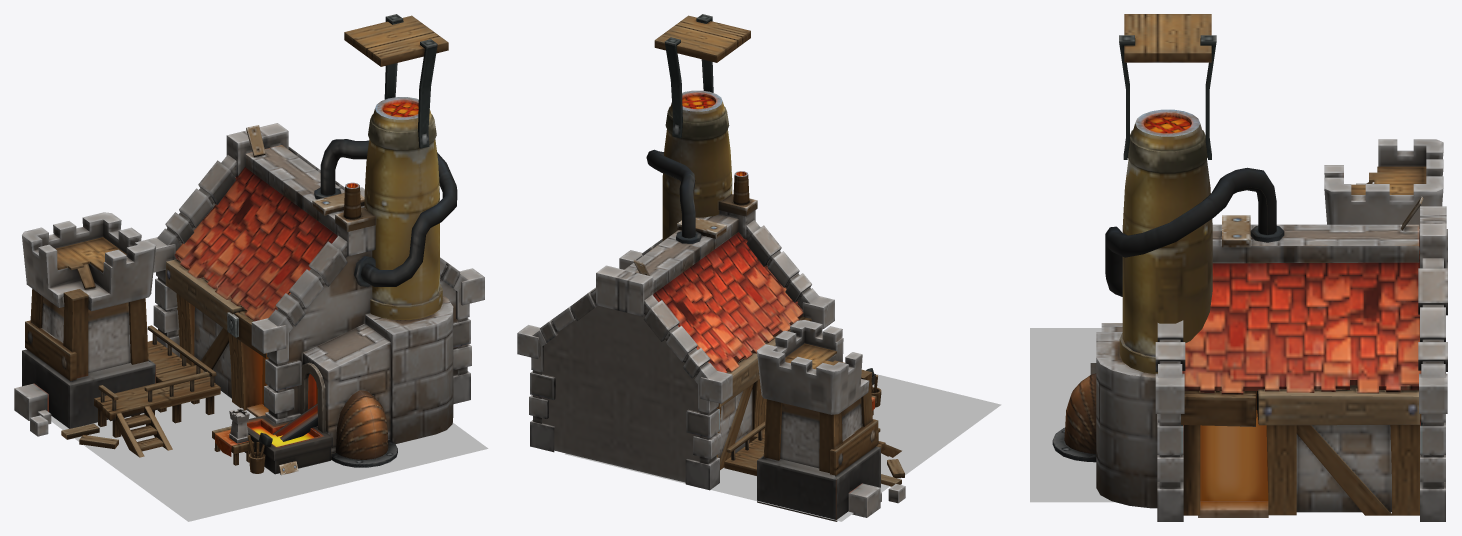
The model's file is C_DirtyWorkshop_LV1.fbx.
3 views of the same model, side by side, from view 1: azimuth 30°, elevation 25°; view 2: azimuth 150°, elevation 25°; view 3: azimuth 270°, elevation 25° (orthographic). The views are drawn at different scales.
Parts seen in each view (by area): view 1: Dirty_Workshop_LV01_0_mesh, Dirty_Workshop_LV01_1_mesh; view 2: Dirty_Workshop_LV01_0_mesh, Dirty_Workshop_LV01_1_mesh; view 3: Dirty_Workshop_LV01_0_mesh, Dirty_Workshop_LV01_1_mesh.
Part boxes in pixels (box(x1,y1,x2,y2)): Dirty_Workshop_LV01_0_mesh: box(14, 14, 484, 475); Dirty_Workshop_LV01_1_mesh: box(51, 391, 488, 521); Dirty_Workshop_LV01_0_mesh: box(517, 14, 905, 521); Dirty_Workshop_LV01_1_mesh: box(565, 374, 1001, 521); Dirty_Workshop_LV01_0_mesh: box(1052, 14, 1447, 521); Dirty_Workshop_LV01_1_mesh: box(1030, 328, 1114, 502).
Bounding box in the file's own units: 149 × 147 × 122.
